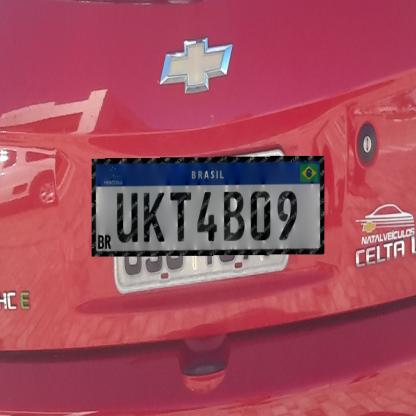PlacaM: (92, 156, 324, 256)
